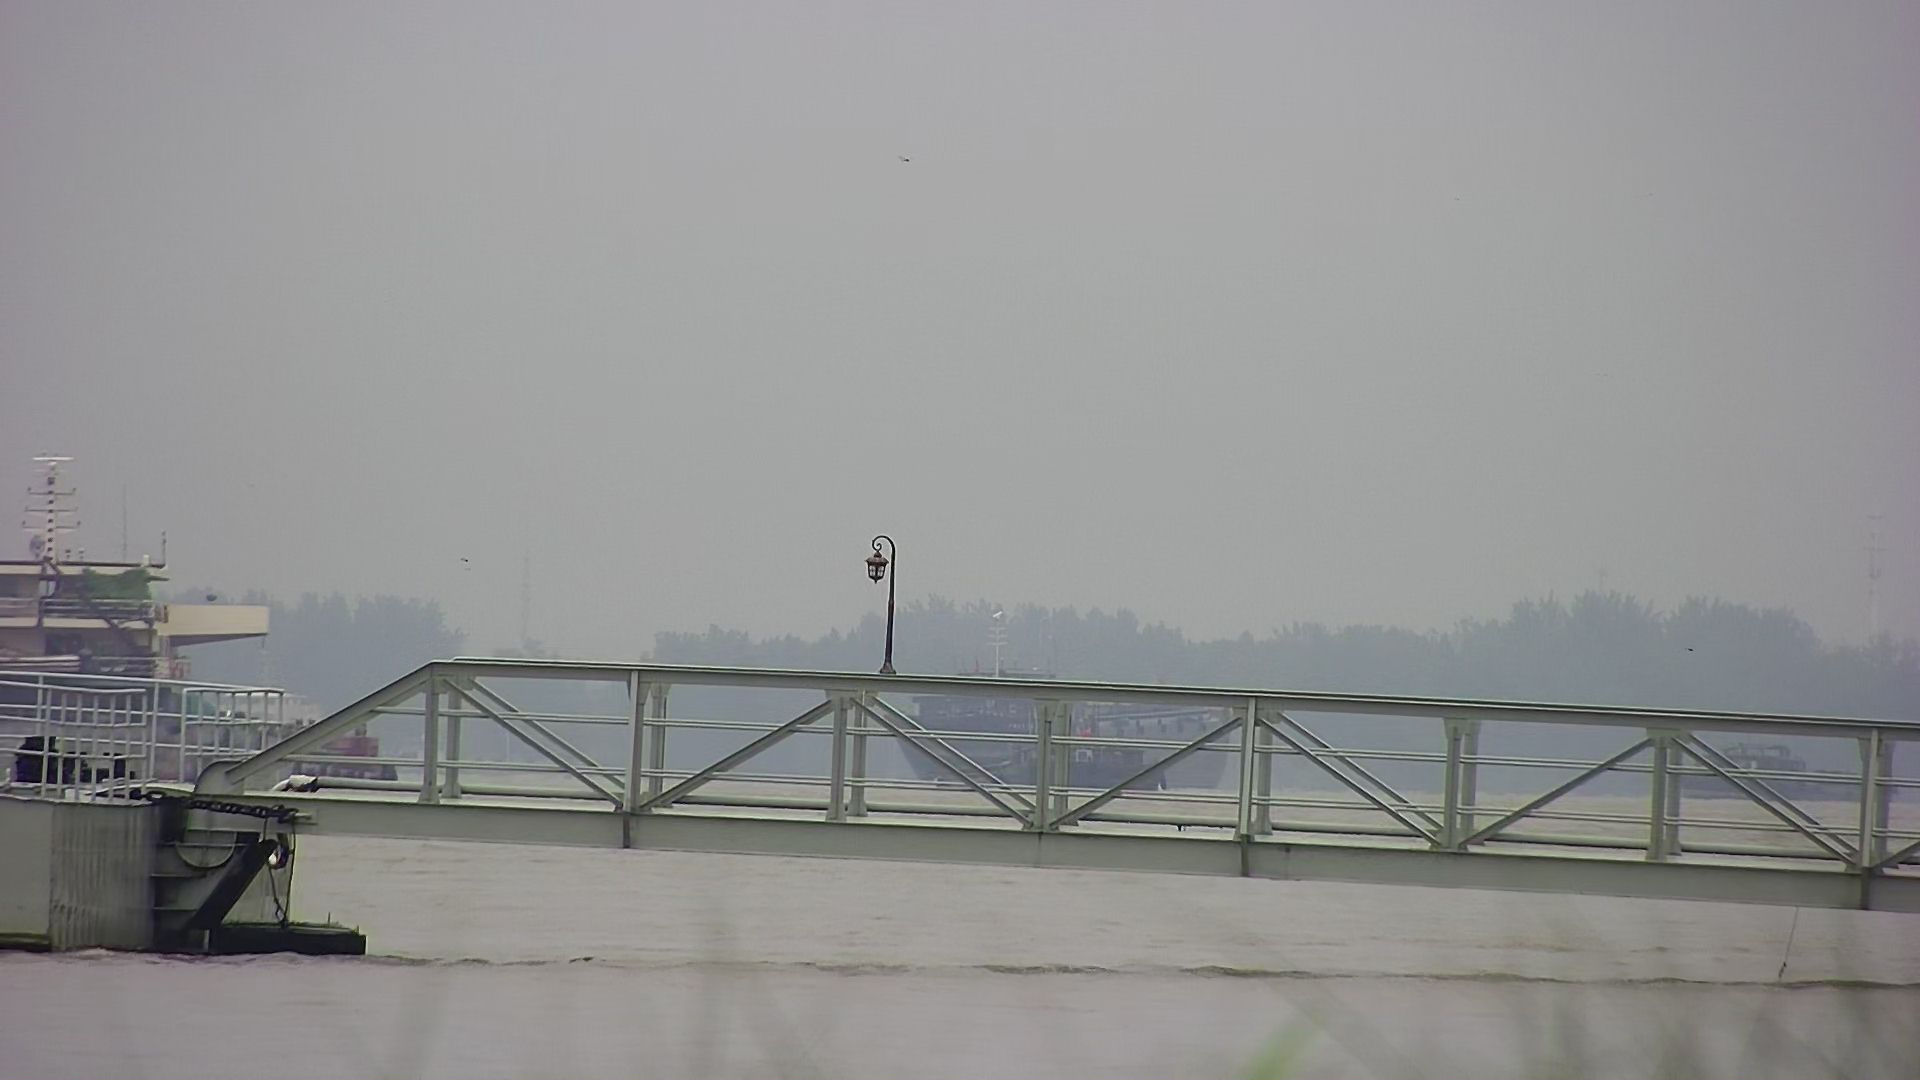bridge: (196, 624, 1920, 985)
